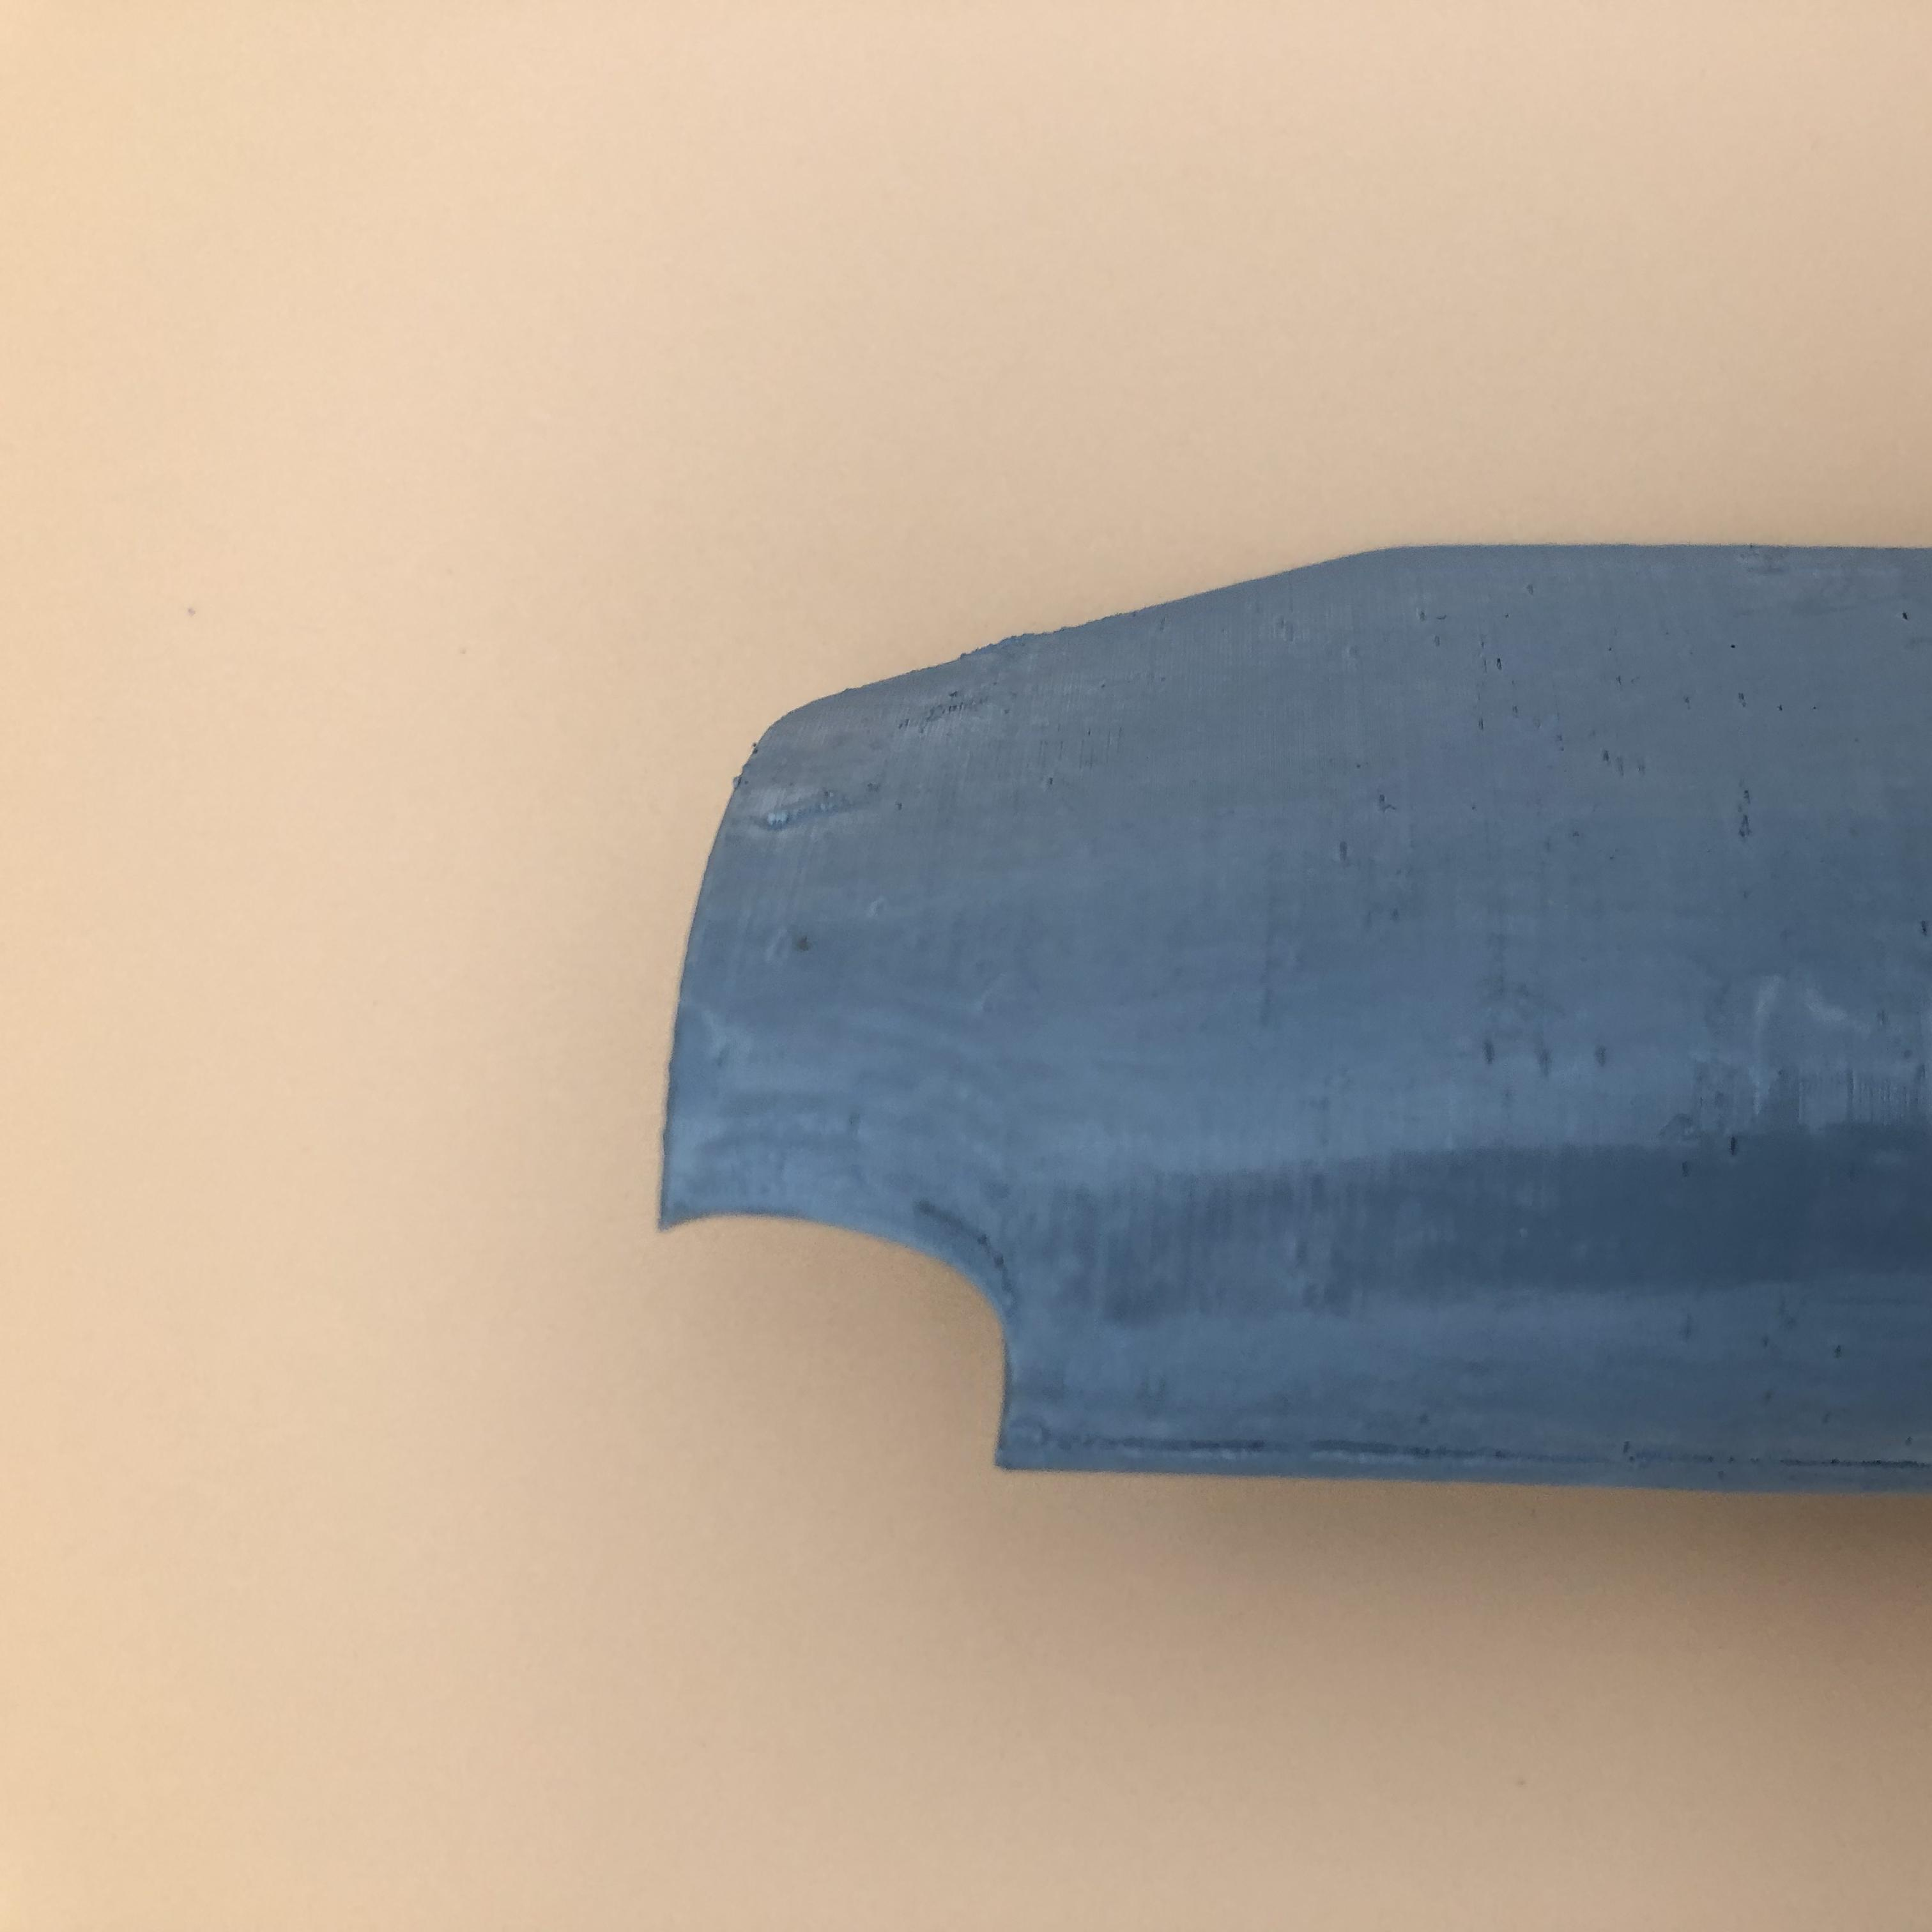fracture: (674, 1194, 1033, 1467)
